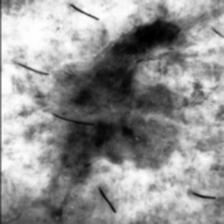Potentially Malignant Skin Tumors: (40, 20, 186, 179)
